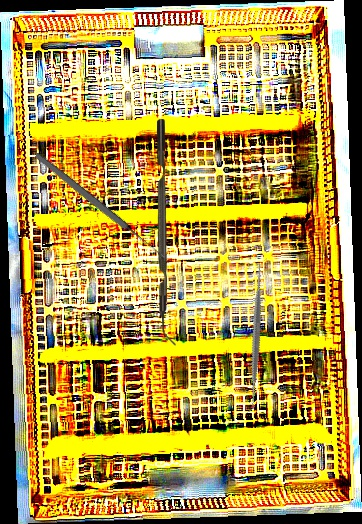Chopper: (157, 119, 176, 346)
Spatula Surgical: (177, 258, 335, 415)
Surgical Spoon: (33, 151, 168, 262)
